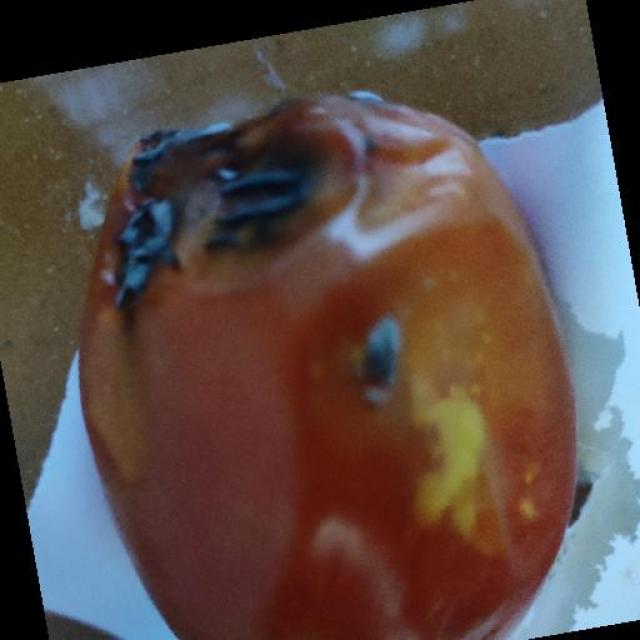Stale_tomato: (70, 106, 629, 634)
